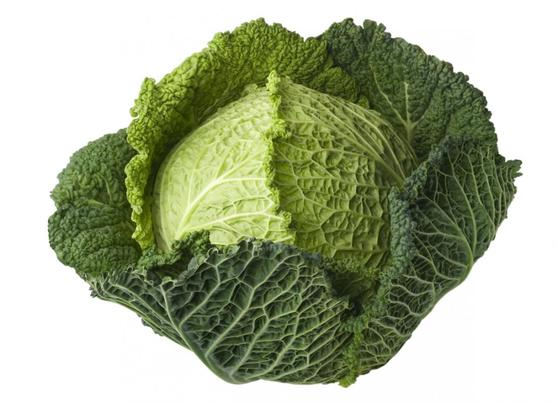cabbage: (116, 48, 463, 342)
